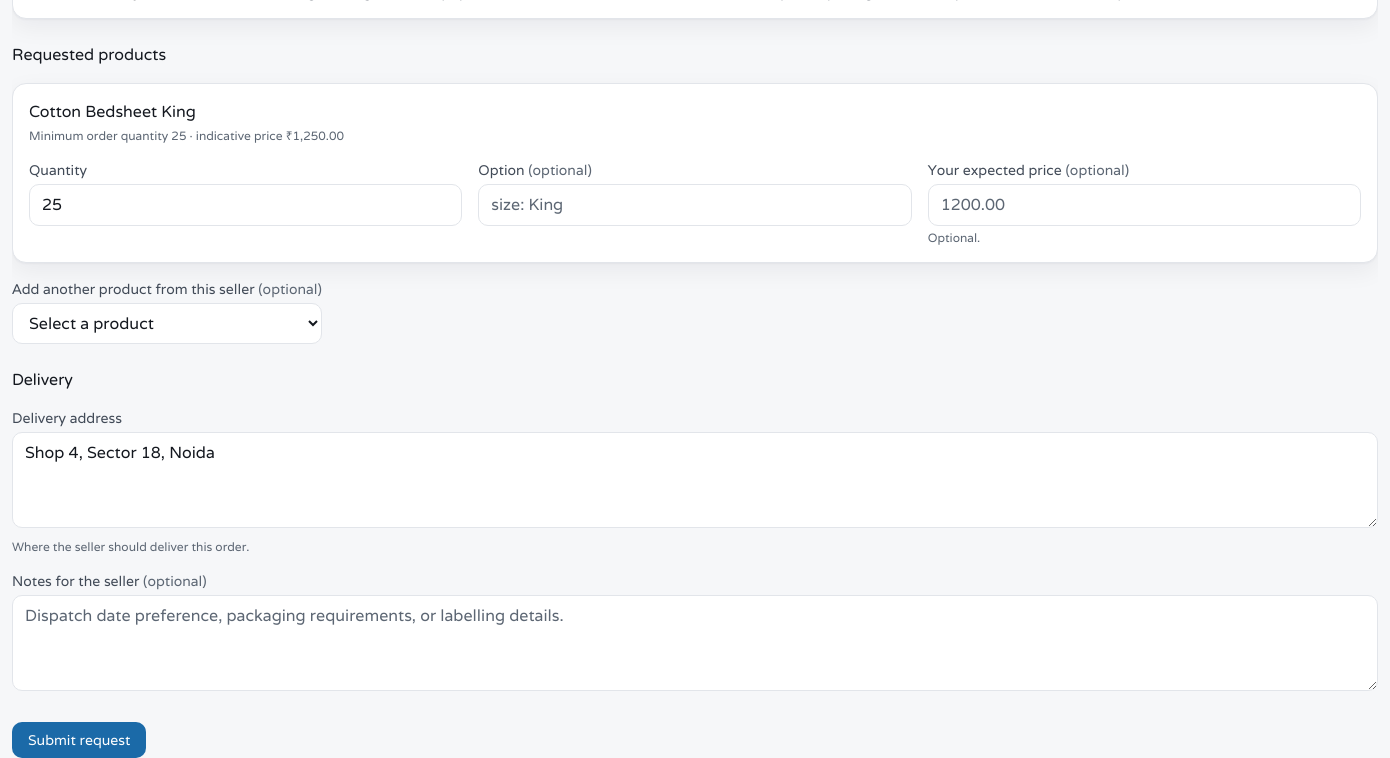
it: OrderRequestForm › puts a server-side field error on the field it belongs to
(page scrolled)
Click the button "Submit request": (79, 740) [12, 722, 146, 757]
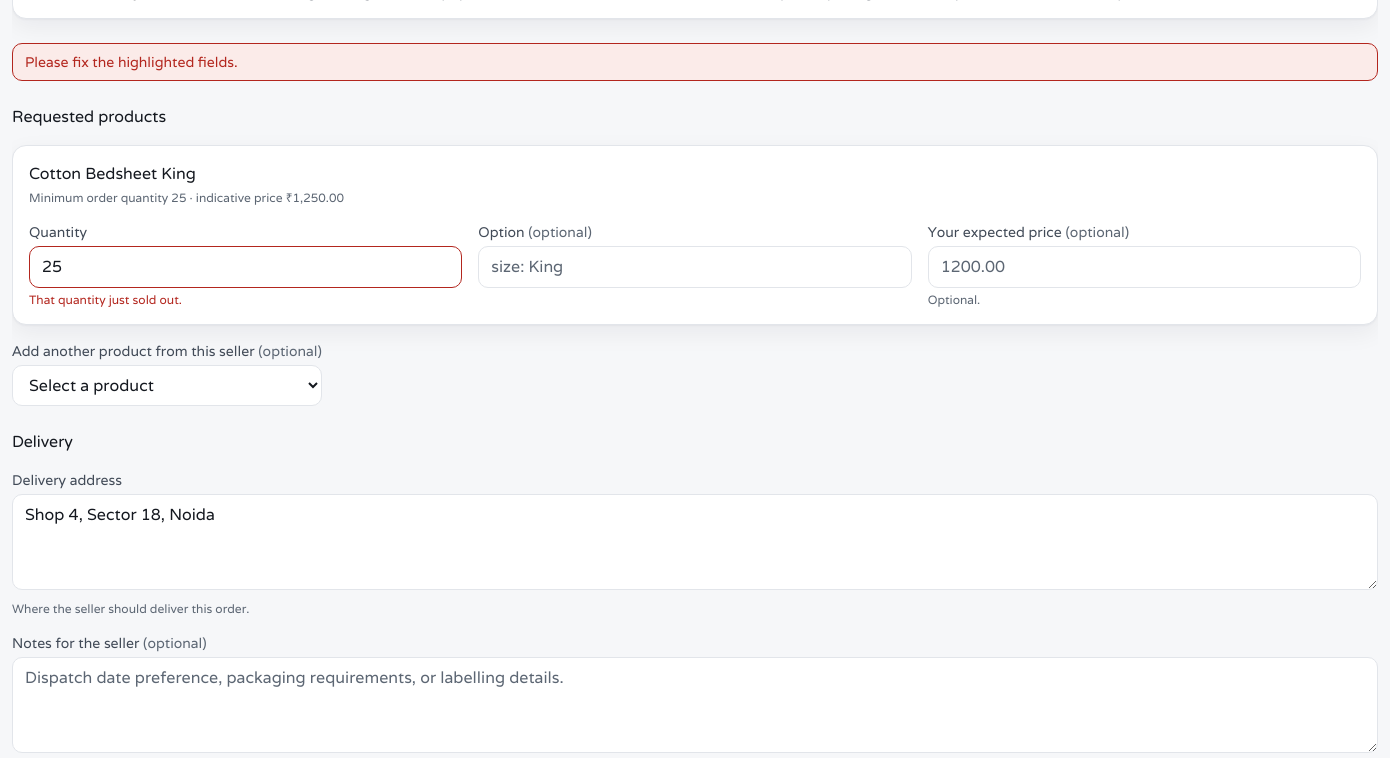
Check: the text "That quantity just sold out." is shown, box [29, 292, 182, 307]
